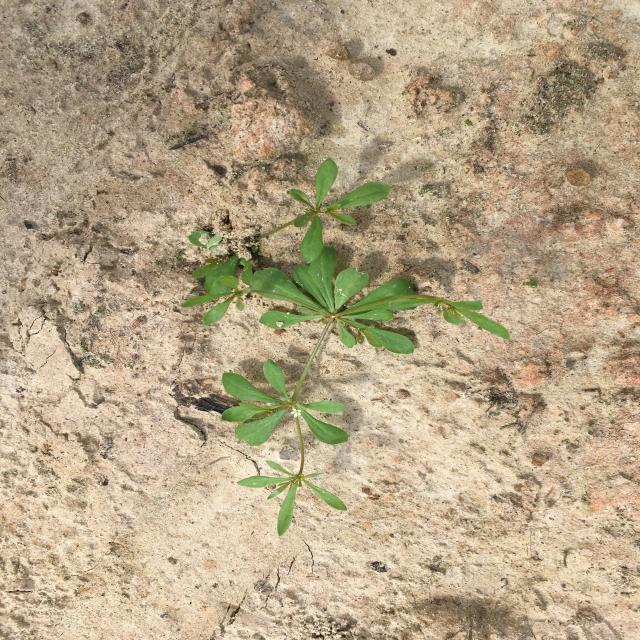Carpetweed: (180, 246, 510, 536), (188, 157, 392, 296)
